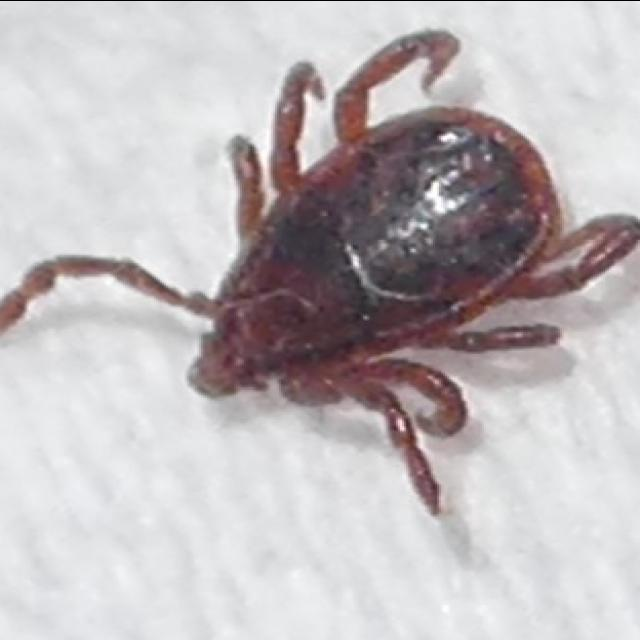Rhipicephalus Sanguineus-M: (0, 28, 640, 516)
